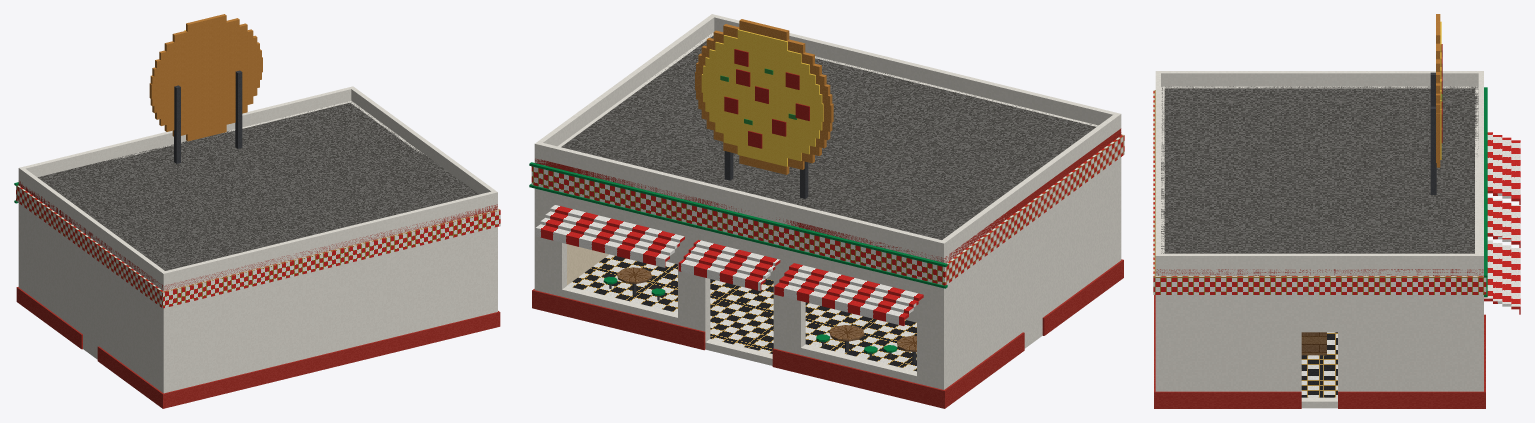
The model's file is pizzeria.glb.
The picture shows the model from 3 angles, left to right: view 1: azimuth 30°, elevation 25°; view 2: azimuth 150°, elevation 25°; view 3: azimuth 270°, elevation 25°; orthographic projection. The views are drawn at different scales.
Parts seen in each view (by area): view 1: pizzeria; view 2: pizzeria; view 3: pizzeria.
Boxes of the visible parts, x1,y1,x2,y2 form: pizzeria: [14, 14, 500, 408]; pizzeria: [529, 14, 1124, 408]; pizzeria: [1153, 14, 1520, 408].
Bounding box in the file's own units: 12.2 × 8.8 × 10.06.
18 materials, 18 textured.
